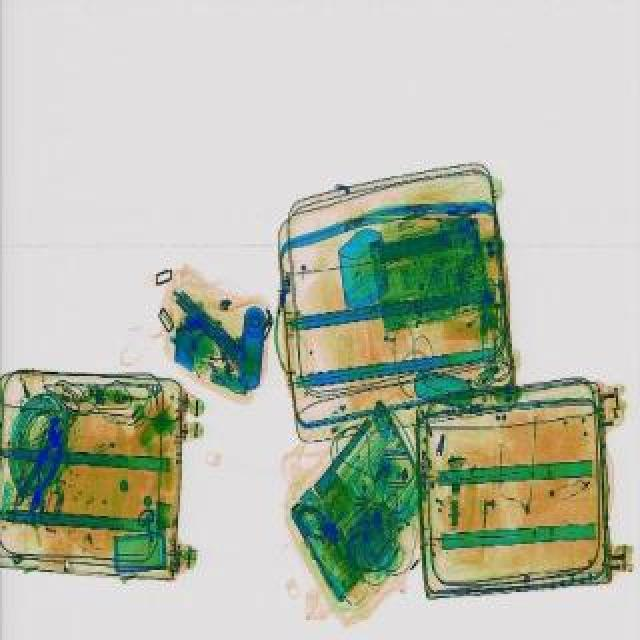scissors: (4, 412, 72, 508)
wrench: (22, 438, 66, 508)
